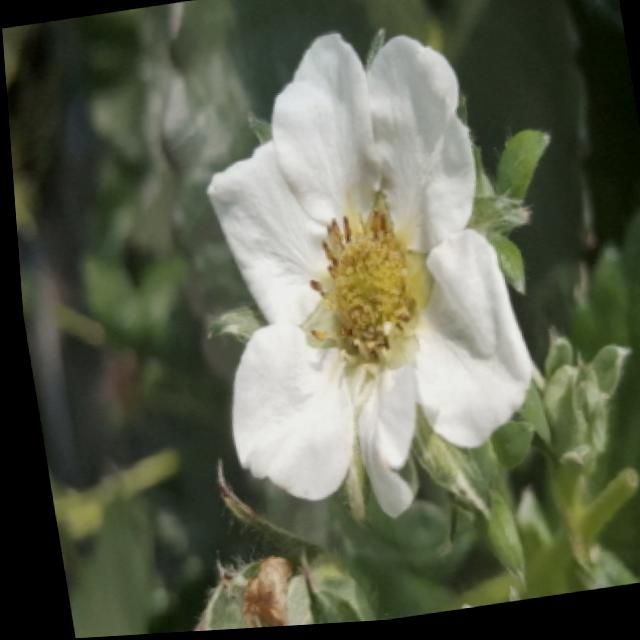Blossom Blight: (287, 188, 434, 387)
